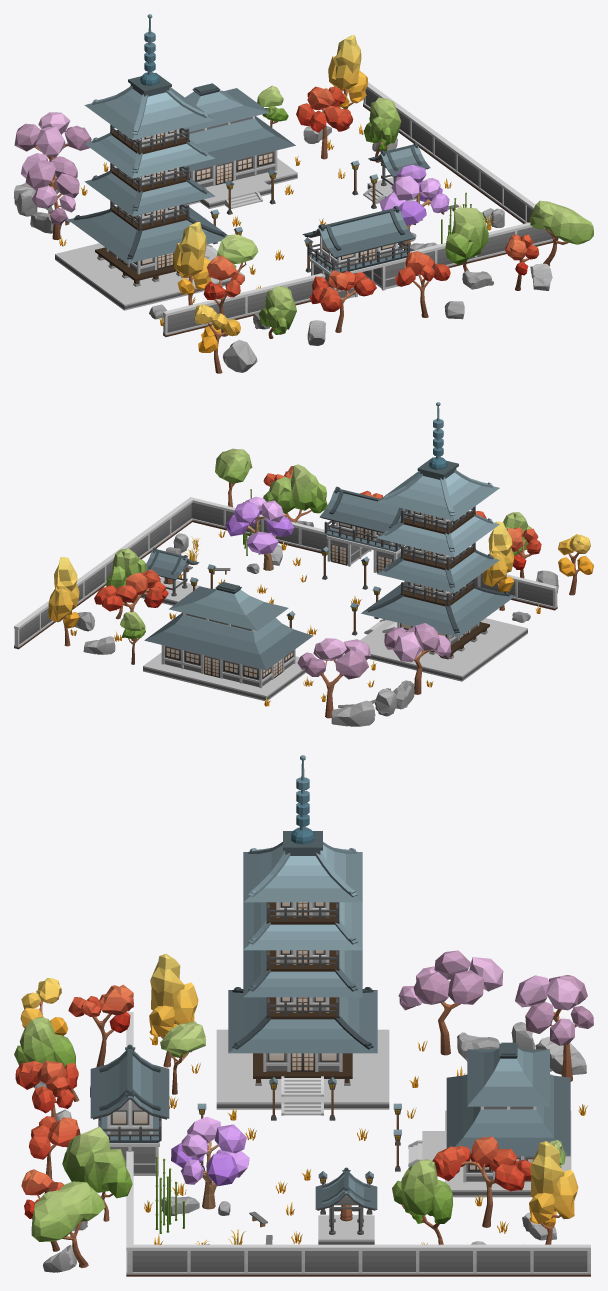
File: ancient_pagoda.glb
The picture shows the model from 3 angles, top to bottom: view 1: azimuth 30°, elevation 25°; view 2: azimuth 150°, elevation 25°; view 3: azimuth 270°, elevation 25°; orthographic projection. The views are drawn at different scales.
Visible parts, largest first — view 1: japanes temple 2_17, japanese house 2_21, japanese gate_79, sakura tree 3_53, sakura tree_75, sakura tree 2_23, autumn tree 5_46, tree_58, autumn tree_25, tree 3_39, autumn tree_49, autumn tree 5_73 (+22 smaller); view 2: japanes temple 2_17, japanese house 2_21, japanese gate_79, sakura tree_75, sakura tree 2_23, tree 3_39, sakura tree 3_53, autumn tree 5_46, autumn tree_49, japanese dotaku_86, autumn tree_25, autumn tree 2_90 (+17 smaller); view 3: japanes temple 2_17, japanese house 2_21, japanese gate_79, sakura tree 3_53, sakura tree_75, sakura tree 2_23, japanese dotaku_86, tree 3_39, tree_58, autumn tree 5_46, autumn tree_49, autumn tree_25 (+17 smaller).
Boxes of the visible parts, x1,y1,x2,y2 form: japanes temple 2_17: [55, 14, 244, 310]; japanese house 2_21: [115, 83, 297, 209]; japanese gate_79: [302, 206, 414, 298]; sakura tree 3_53: [21, 153, 79, 239]; sakura tree_75: [379, 164, 449, 246]; sakura tree 2_23: [14, 112, 91, 190]; autumn tree 5_46: [296, 86, 353, 159]; tree_58: [530, 200, 593, 266]; autumn tree_25: [173, 222, 211, 305]; tree 3_39: [445, 207, 488, 271]; autumn tree_49: [328, 35, 367, 128]; autumn tree 5_73: [309, 270, 376, 332]; japanes temple 2_17: [360, 402, 527, 681]; japanese house 2_21: [143, 582, 312, 700]; japanese gate_79: [320, 486, 410, 572]; sakura tree_75: [225, 496, 294, 570]; sakura tree 2_23: [297, 638, 371, 718]; tree 3_39: [263, 464, 327, 522]; sakura tree 3_53: [384, 623, 451, 694]; autumn tree 5_46: [94, 569, 168, 640]; autumn tree_49: [48, 557, 79, 646]; japanese dotaku_86: [140, 547, 199, 605]; autumn tree_25: [483, 521, 514, 610]; autumn tree 2_90: [558, 534, 593, 595]; japanes temple 2_17: [216, 755, 389, 1115]; japanese house 2_21: [408, 1042, 571, 1197]; japanese gate_79: [90, 1044, 169, 1176]; sakura tree 3_53: [398, 950, 503, 1055]; sakura tree_75: [171, 1116, 249, 1209]; sakura tree 2_23: [515, 975, 593, 1081]; japanese dotaku_86: [315, 1167, 377, 1244]; tree 3_39: [62, 1126, 132, 1221]; tree_58: [31, 1181, 105, 1267]; autumn tree 5_46: [432, 1136, 531, 1227]; autumn tree_49: [529, 1141, 578, 1244]; autumn tree_25: [149, 953, 198, 1067].
Bounding box in the file's own units: 18.52 × 12.15 × 18.67.
Materials: 1 (1 with a texture image).
